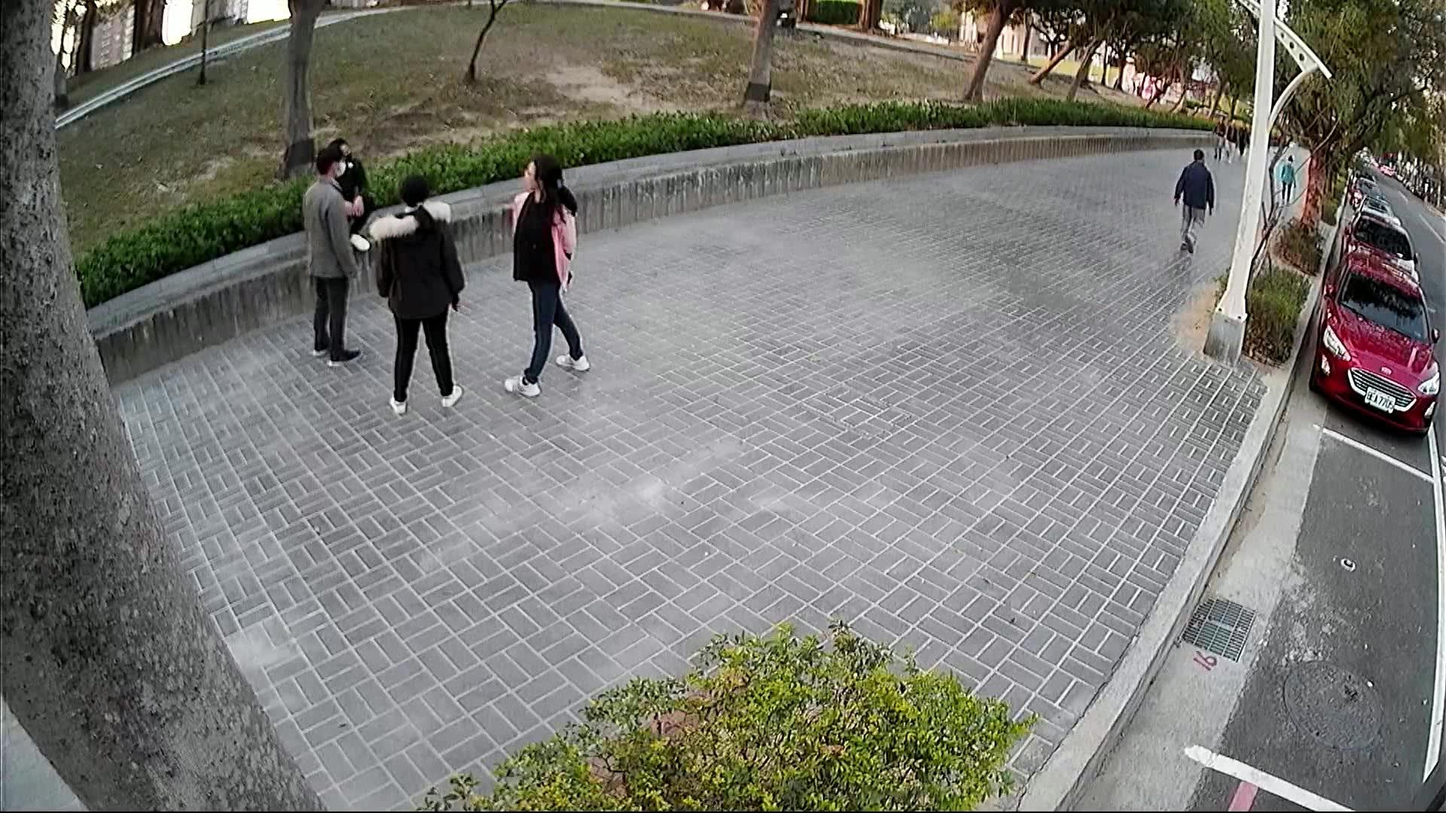person: (365, 169, 468, 417), (498, 142, 594, 403), (294, 140, 368, 368), (1164, 140, 1218, 260), (325, 132, 376, 254), (1274, 148, 1300, 206), (1220, 114, 1238, 164), (1209, 110, 1227, 159)
